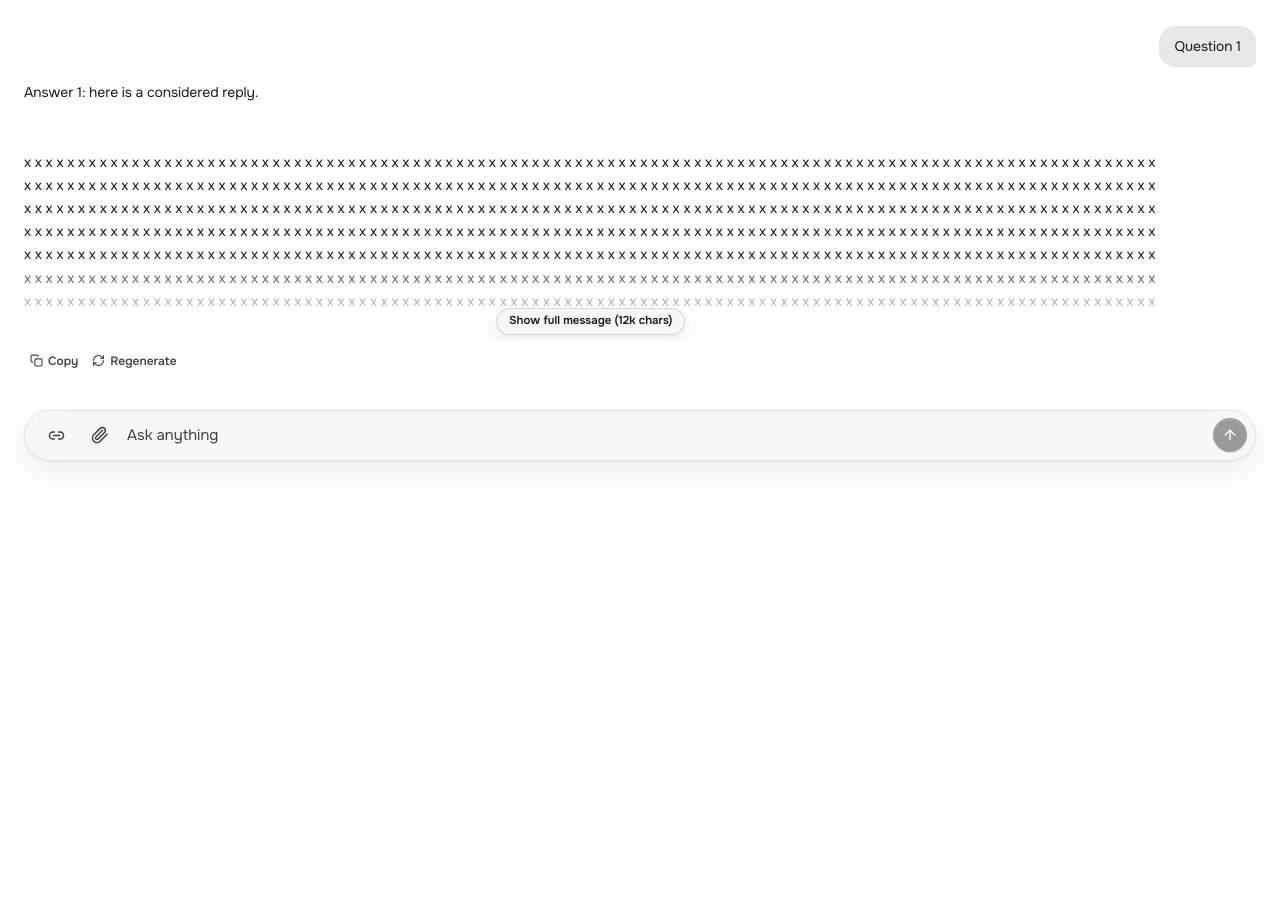
Scenario: huge-message truncation + expand (ENG-218) › collapses a huge assistant message and expands it on demand
Click the button "Show full message (12k chars)": (591, 322) 496,308 -> 685,335
(page scrolled)
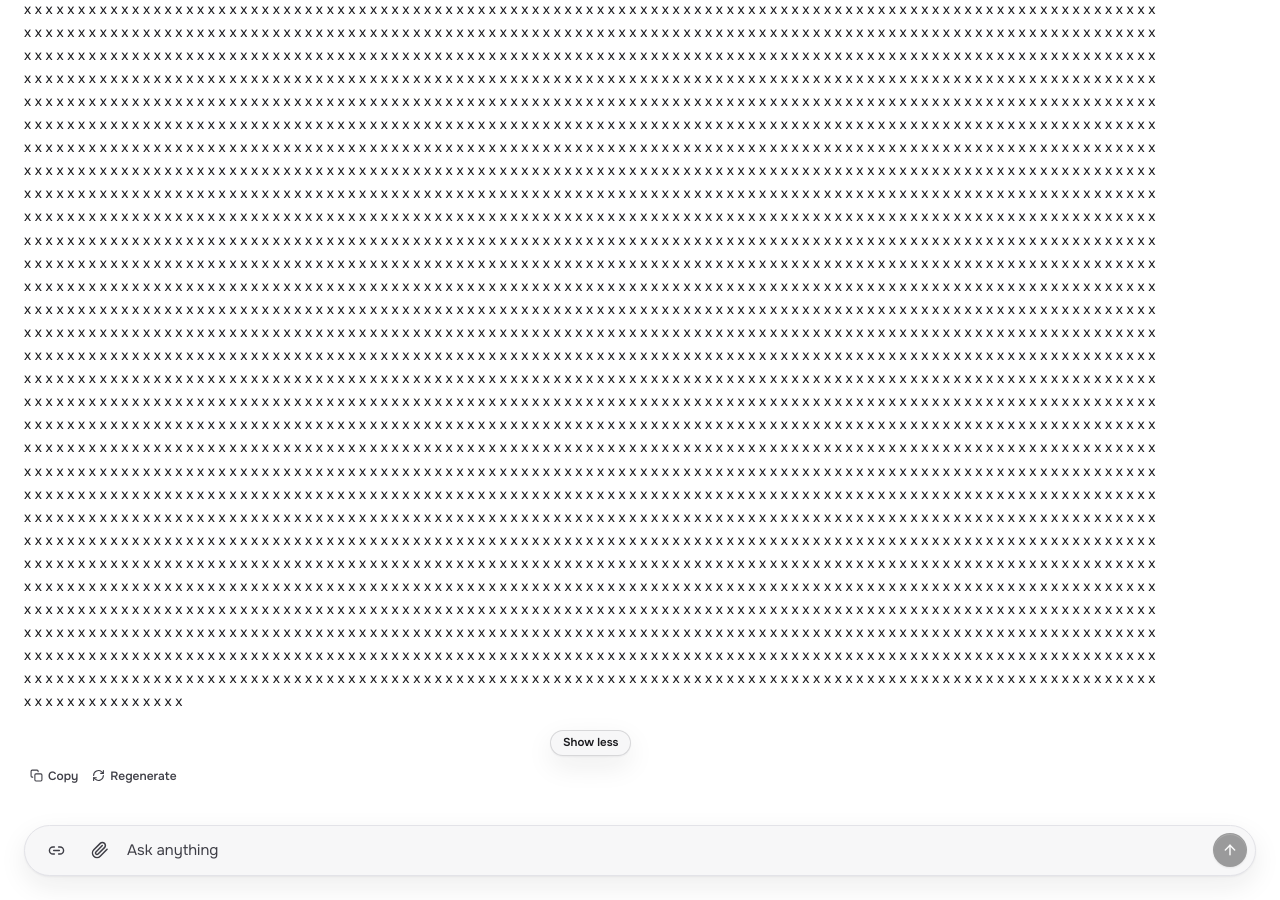
Expected: the button "Show less" is shown, 550,730 -> 632,756
